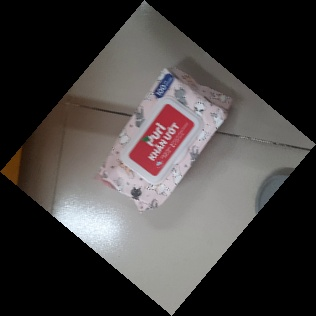Puri hong: (94, 67, 233, 214)
